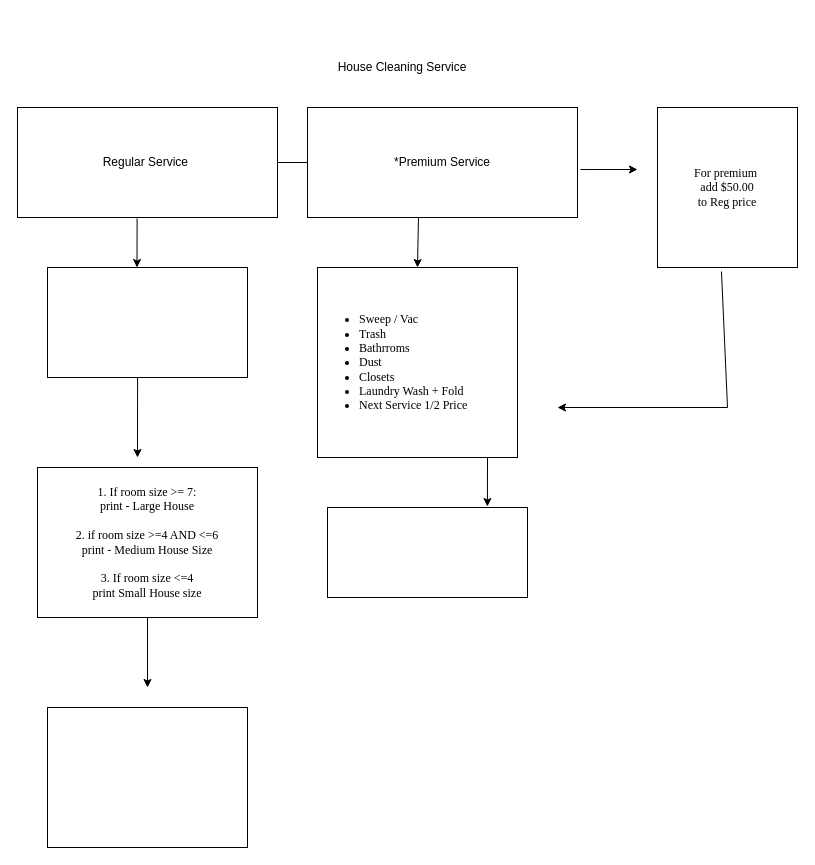
This 815x865 diagram has some shape labels left out. The box of each missing label's shape, as (x1, y1, x2, y2) in pixels:
Prices USD Large = 200.00 + 1/2 Next Purchase Meduim = 150.00 Small = 100.00: (46, 706, 248, 848)
Regular + $50.00 = Premium: (326, 506, 528, 598)
Sweep / Vacuume Trash Bathrooms Dust: (46, 266, 248, 378)
